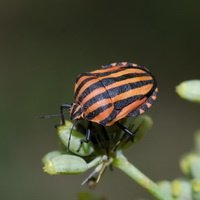insect: (43, 62, 157, 184), (57, 62, 157, 155)
